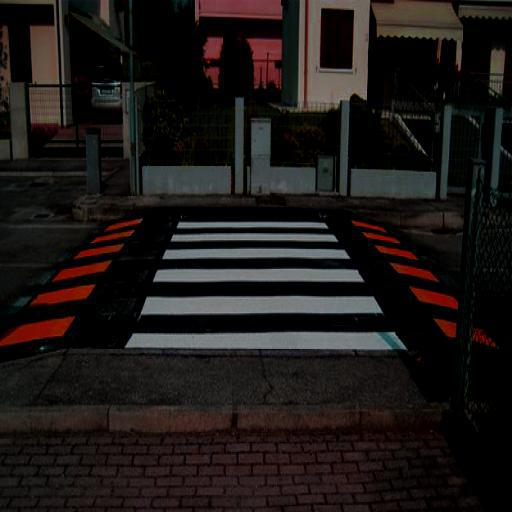crosswalk: (136, 264, 389, 322), (167, 216, 344, 246)
